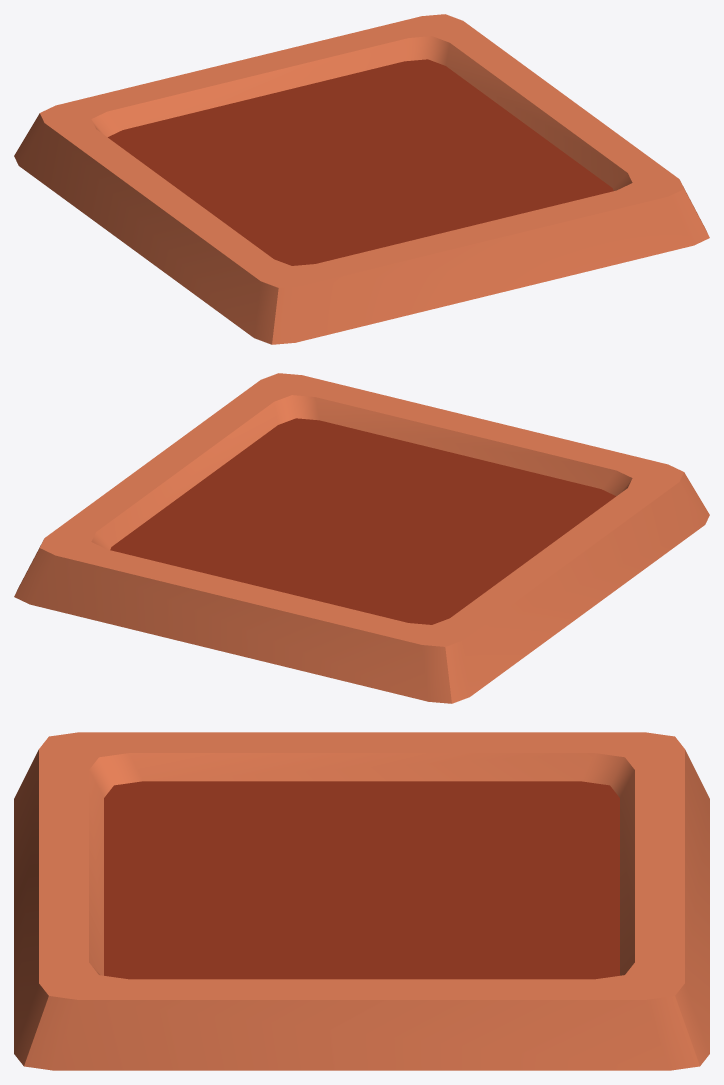
File: MacetaArbol.FBX
3 renders of one model, top to bottom at view 1: azimuth 30°, elevation 25°; view 2: azimuth 150°, elevation 25°; view 3: azimuth 270°, elevation 25°, orthographic. The views are drawn at different scales.
Visible parts, largest first — view 1: Box017; view 2: Box017; view 3: Box017.
Boxes of the visible parts, <box> form: Box017: <box>14,14,709,344</box>; Box017: <box>14,373,709,703</box>; Box017: <box>14,732,709,1070</box>.
Size of the model in its own units: 321 by 31.22 by 327.
